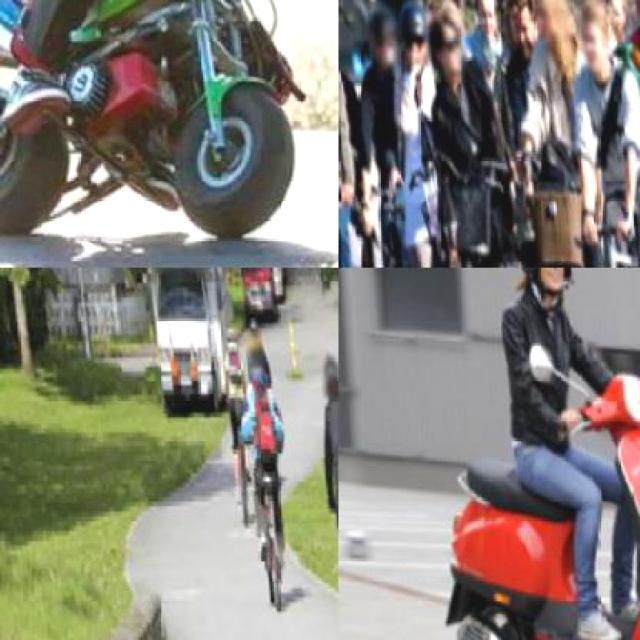With Helmet: (364, 0, 404, 80), (392, 0, 434, 69), (506, 268, 582, 303), (315, 332, 337, 397), (244, 326, 267, 376)
Without Helmet: (426, 4, 471, 85), (571, 0, 614, 72), (531, 0, 578, 62)
